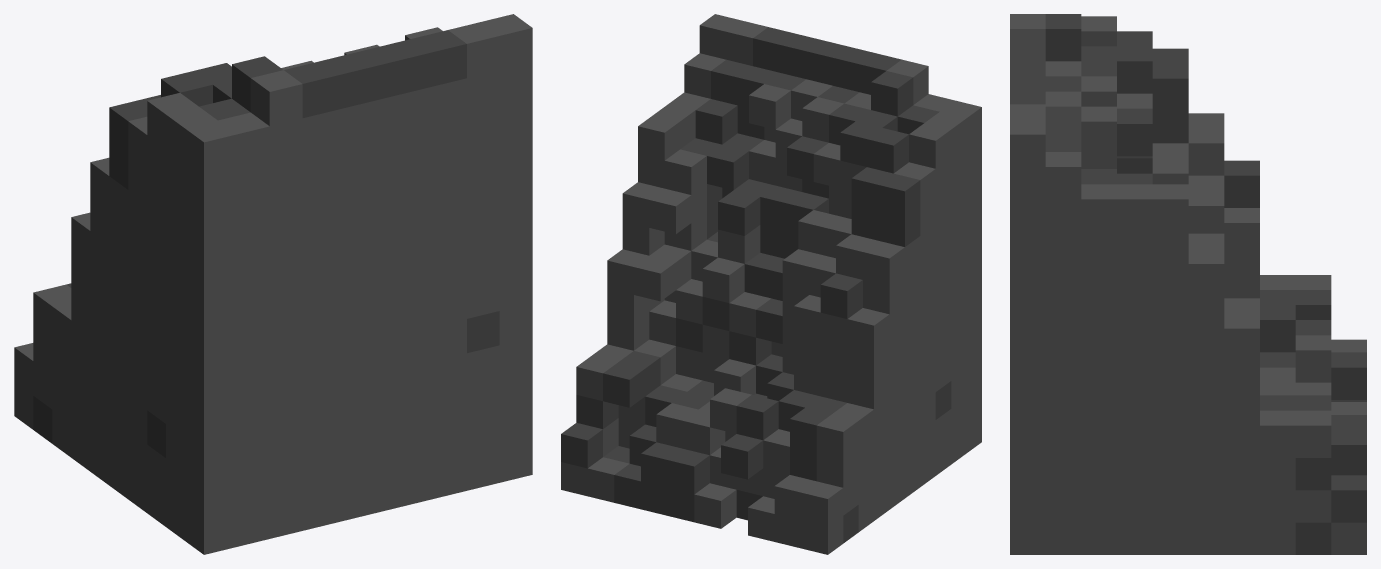
Rendered from Stein_Rand-ebene-1.0.obj.
3 renders of one model, left to right at view 1: azimuth 30°, elevation 25°; view 2: azimuth 150°, elevation 25°; view 3: azimuth 270°, elevation 25°, orthographic. The views are drawn at different scales.
Bounding box in the file's own units: 1 × 1.3 × 1.
Materials: 1 (1 with a texture image).
